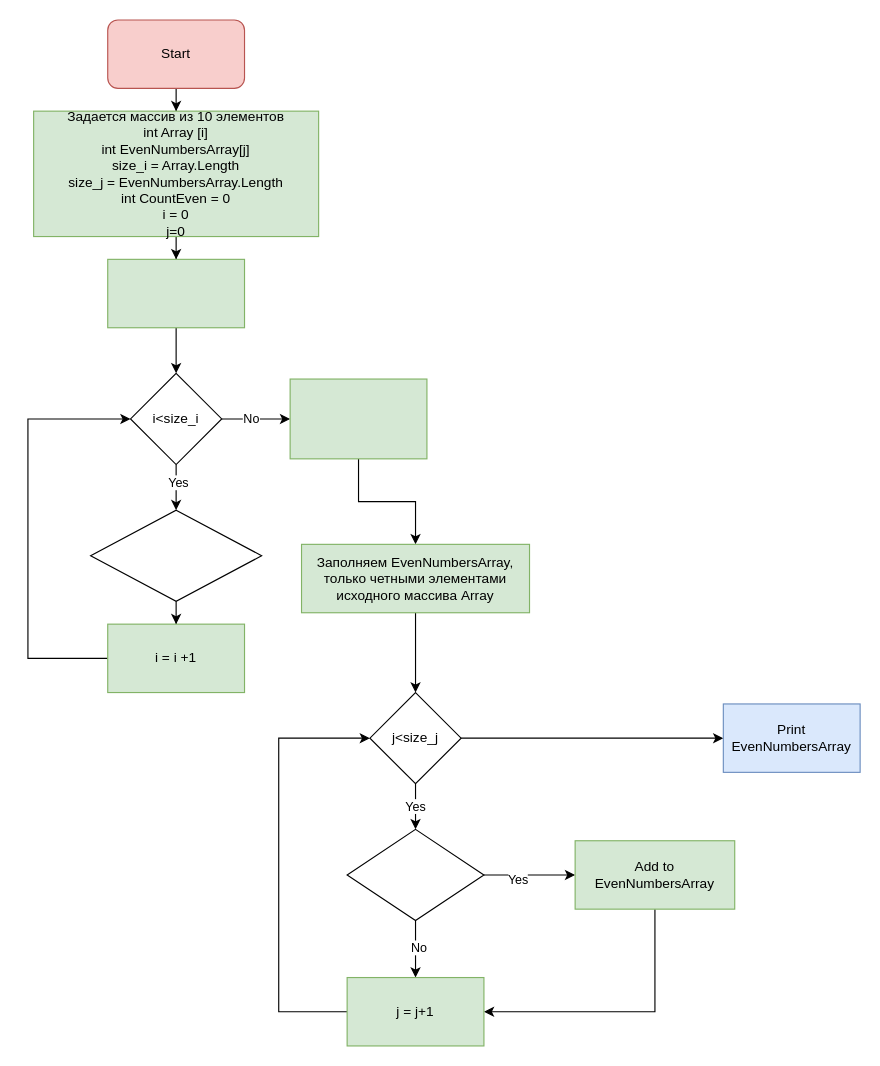
This 880x1066 diagram has some shape labels left out. The box of each missing label's shape, as (x1, y1, x2, y2) in pixels:
Array[i] = GetRandom: (89, 509, 262, 601)
Array[i]%2==0: (346, 828, 484, 921)
Print Array [i] (массив заполнен случайными числами): (289, 378, 427, 459)
Заполняем массив Array случайными числами с помощью генератора: (107, 258, 245, 328)
